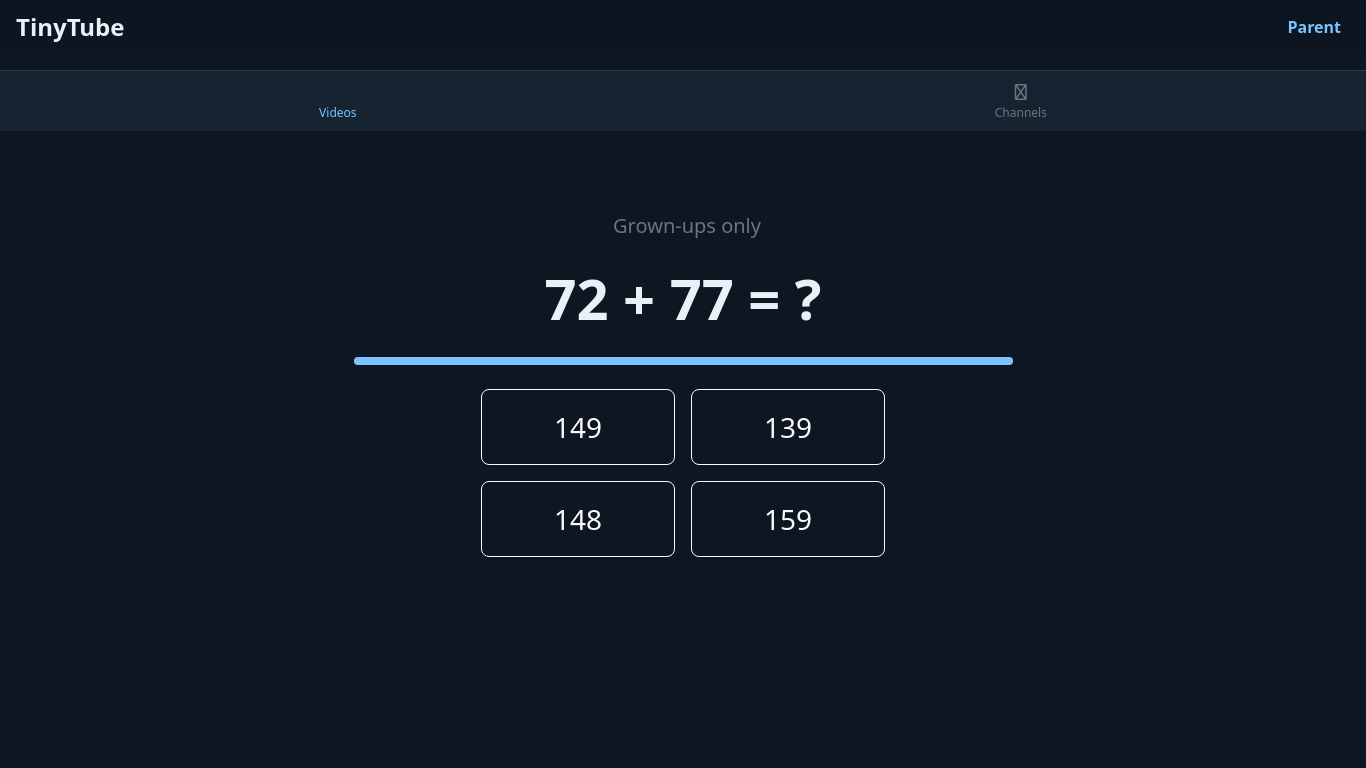
Scenario: parent gate › opens editable Parents Mode even when a child is the one signed in
Click the button with aria-label "Parents" at (1314, 27), box 1278,8 -> 1350,46
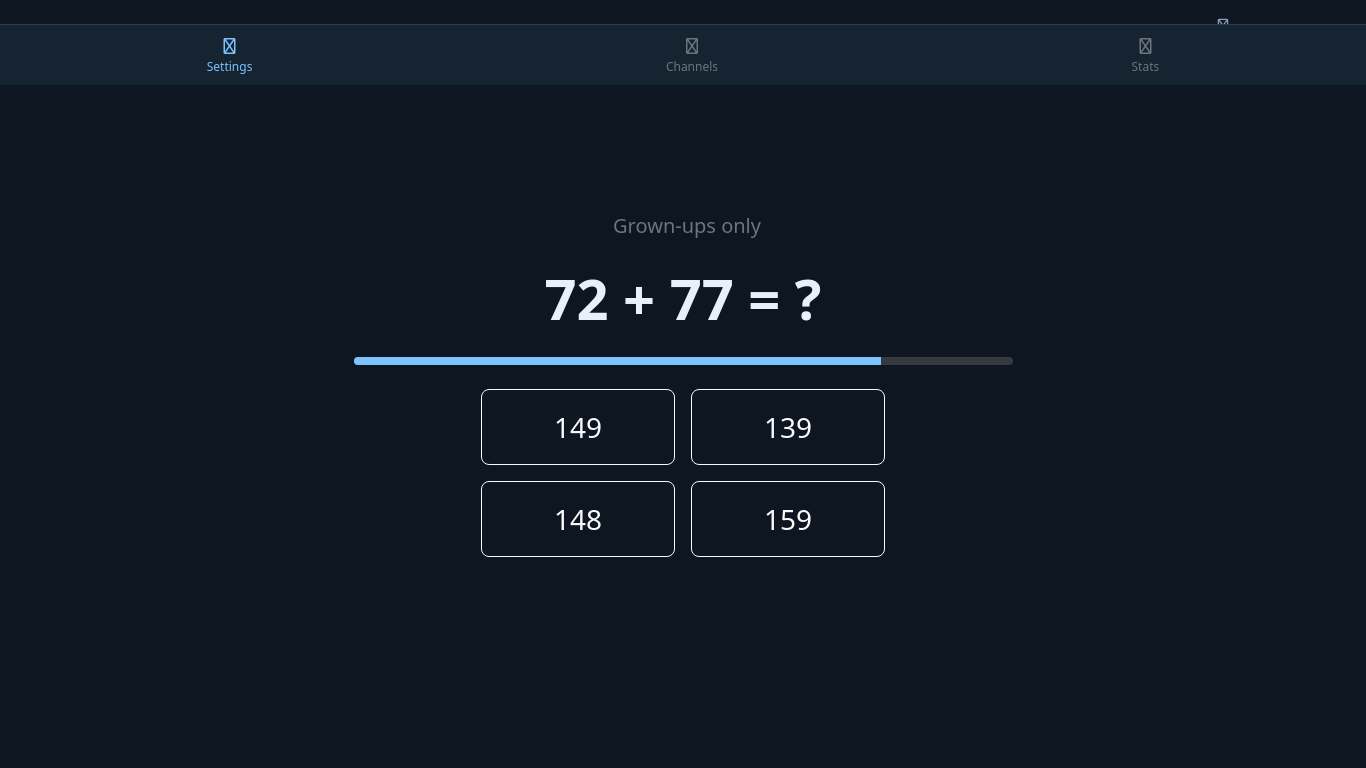
Check: the heading "Parents Mode" is shown, box 628,10 -> 738,24
